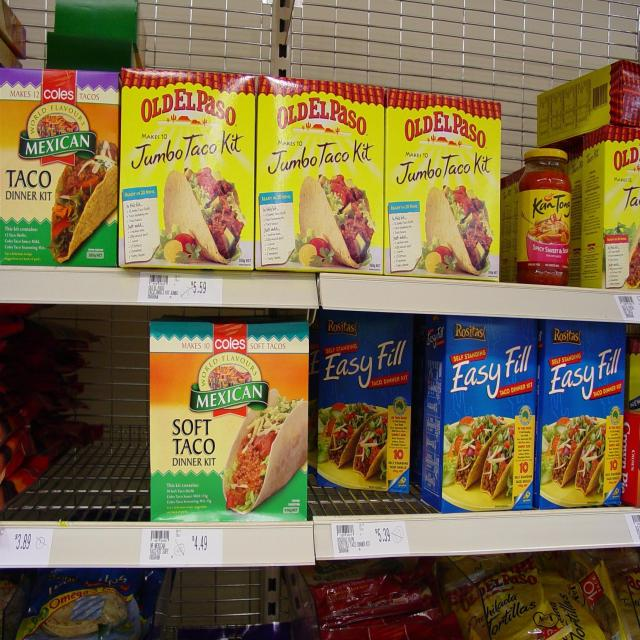void: (82, 322, 147, 515)
